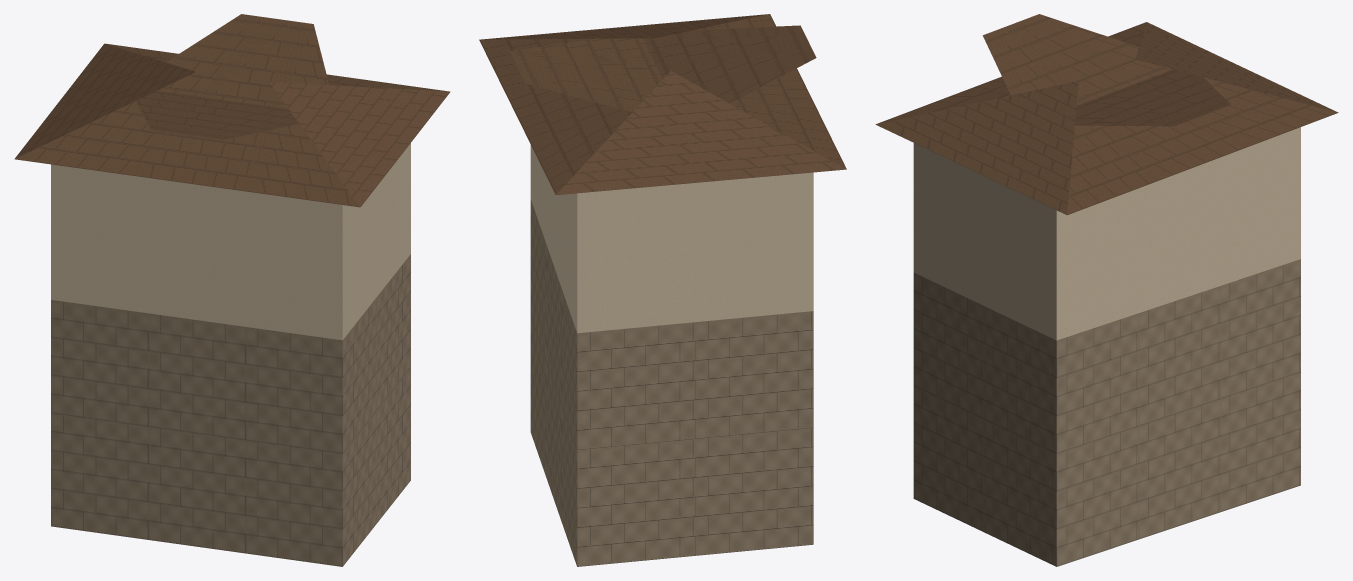
File: bld_c-27_22_671.gltf
3 views of the same model, side by side, from view 1: azimuth 30°, elevation 25°; view 2: azimuth 150°, elevation 25°; view 3: azimuth 270°, elevation 25° (orthographic). The views are drawn at different scales.
Visible parts, largest first — view 1: bld_c-27_22_671; view 2: bld_c-27_22_671; view 3: bld_c-27_22_671.
Part boxes in pixels (x1,y1,x2,y2): bld_c-27_22_671: (14, 14, 450, 566); bld_c-27_22_671: (479, 14, 846, 566); bld_c-27_22_671: (875, 14, 1338, 566).
Size of the model in its own units: 8.55 by 8.7 by 8.66.
3 materials, 3 textured.
